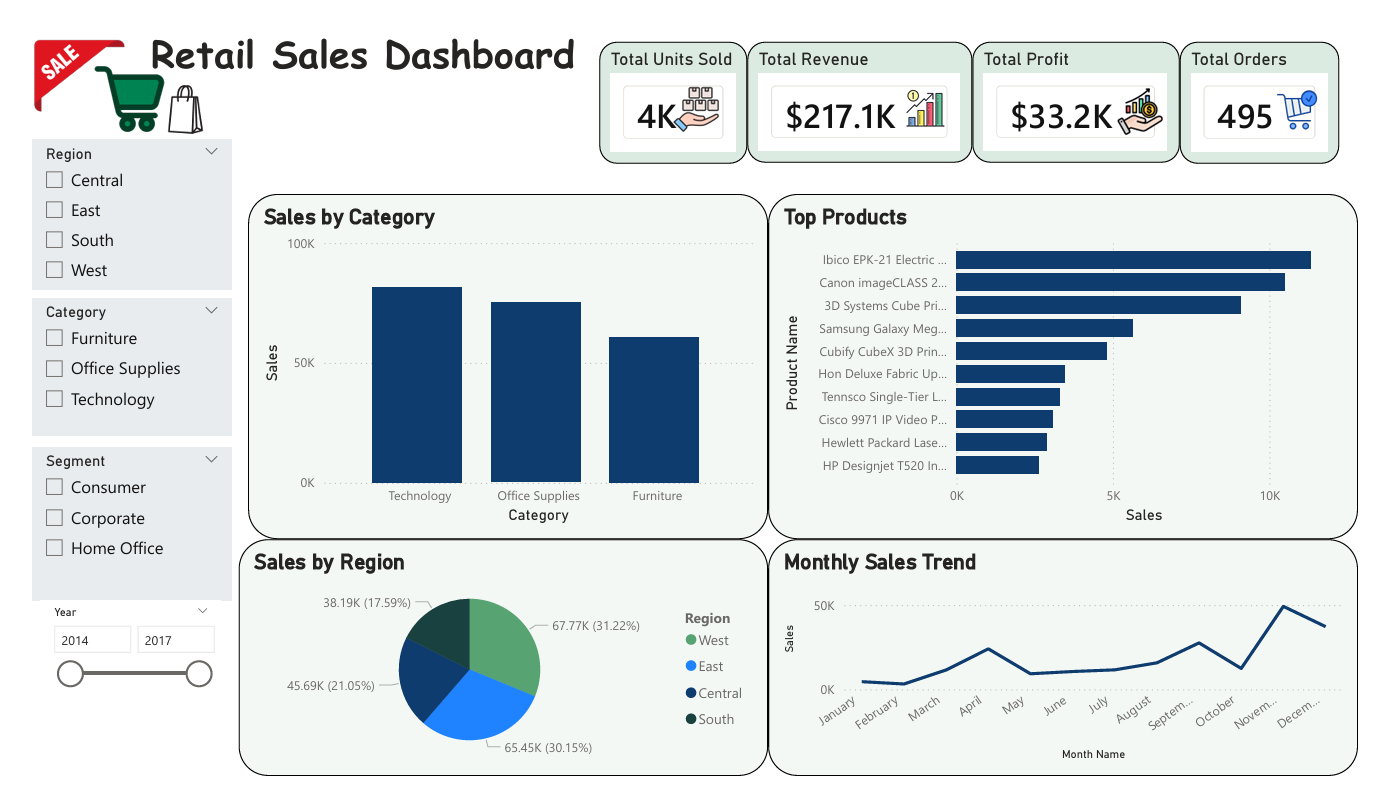

What the dashboard file says about the page in this screenshot:
{"tool":"powerbi","page":{"name":"Page 1","canvas":[1280,720],"ordinal":0},"visuals":[{"type":"columnChart","title":"Sales by Category","fields":{"Category":["Excel.Category"],"Y":["Sum(Excel.Sales)"]},"box":[215.4,161.9,498.1,330.7],"z":0},{"type":"barChart","title":"Top Products","fields":{"Category":["Excel.Product Name"],"Y":["Sum(Excel.Sales)"]},"box":[713.6,161.9,566.7,330.7],"z":1000},{"type":"pieChart","title":"Sales by Region","fields":{"Category":["Excel.Region"],"Y":["Sum(Excel.Sales)"]},"box":[205.8,492.6,507.7,227.8],"z":2000},{"type":"lineChart","title":"Monthly Sales Trend","fields":{"Y":["Sum(Excel.Sales)"],"Category":["Excel.Month Name"]},"box":[713.6,492.6,566.7,227.8],"z":3000},{"type":"slicer","fields":{"Values":["Excel.Region"]},"box":[8.2,109.8,190.7,144.1],"z":4000},{"type":"slicer","fields":{"Values":["Excel.Category"]},"box":[8.2,262.1,190.7,131.7],"z":5000},{"type":"slicer","fields":{"Values":["Excel.Segment"]},"box":[8.2,404.8,190.7,146.8],"z":6000},{"type":"slicer","fields":{"Values":["Excel.Year"]},"box":[16.5,551.6,172.9,109.8],"z":7000},{"type":"cardVisual","title":"Total Units Sold","fields":{"Data":["Excel.Total Quantity"]},"box":[551.6,16.5,142.7,116.6],"z":8000},{"type":"cardVisual","title":"Total Revenue","fields":{"Data":["Excel.Total Sales"]},"box":[694.3,16.5,215.4,115.3],"z":9000},{"type":"cardVisual","title":"Total Profit","fields":{"Data":["Excel.Total Profit"]},"box":[909.8,16.5,199,115.3],"z":10000},{"type":"cardVisual","title":"Total Orders","fields":{"Data":["Excel.Total Orders"]},"box":[1108.8,16.5,153.7,116.6],"z":11000},{"type":"image","box":[1200.7,52.1,41.2,59],"z":12000},{"type":"image","box":[1048.4,52.1,45.3,60.4],"z":13000},{"type":"image","box":[841.2,49.4,48,63.1],"z":14000},{"type":"image","box":[623,56.3,43.9,49.4],"z":15000},{"type":"textbox","title":"Retail Sales Dashboard","box":[98.8,1.4,452.8,100.2],"z":16000},{"type":"image","box":[129,56.3,52.1,49.4],"z":17000},{"type":"image","box":[49.4,28.8,105.7,83.7],"z":18000},{"type":"image","box":[0,0,102.9,100.2],"z":19000}]}

Visuals, with their boxes in screenshot pixels (x1, y1, x2, y2):
"Sales by Category" columnChart: bbox(253, 195, 765, 534)
"Top Products" barChart: bbox(765, 195, 1346, 534)
"Sales by Region" pieChart: bbox(244, 534, 765, 768)
"Monthly Sales Trend" lineChart: bbox(765, 534, 1346, 768)
slicer - Excel.Region: bbox(41, 141, 236, 289)
slicer - Excel.Category: bbox(41, 298, 236, 433)
slicer - Excel.Segment: bbox(41, 444, 236, 595)
slicer - Excel.Year: bbox(49, 595, 227, 708)
"Total Units Sold" cardVisual: bbox(598, 46, 745, 165)
"Total Revenue" cardVisual: bbox(745, 46, 966, 164)
"Total Profit" cardVisual: bbox(966, 46, 1170, 164)
"Total Orders" cardVisual: bbox(1170, 46, 1328, 165)
image: bbox(1265, 82, 1307, 143)
image: bbox(1108, 82, 1155, 144)
image: bbox(896, 79, 945, 144)
image: bbox(672, 87, 717, 137)
"Retail Sales Dashboard" textbox: bbox(134, 30, 598, 133)
image: bbox(165, 87, 218, 137)
image: bbox(83, 58, 192, 144)
image: bbox(32, 29, 138, 132)
